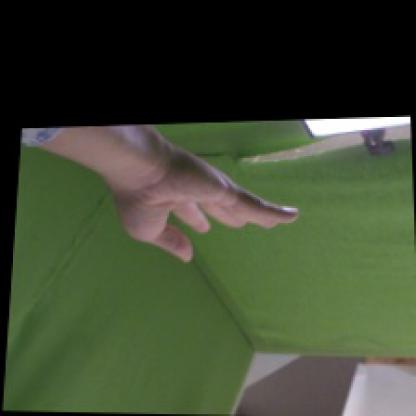Hand: (111, 146, 299, 262)
